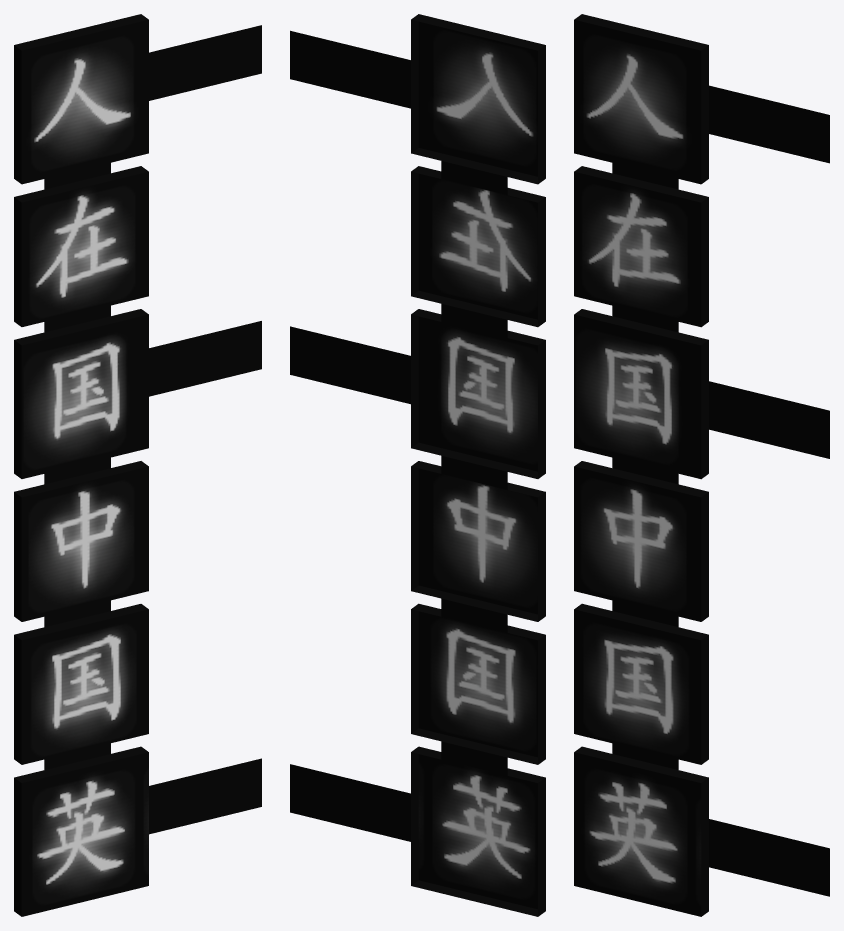
File: bb_chi_left_00.fbx
3 renders of one model, left to right at view 1: azimuth 30°, elevation 25°; view 2: azimuth 150°, elevation 25°; view 3: azimuth 330°, elevation 25°, orthographic.
Parts seen in each view (by area): view 1: bb_chi_left_00; view 2: bb_chi_left_00; view 3: bb_chi_left_00.
Boxes of the visible parts, x1=… form: bb_chi_left_00: x1=14, y1=14, x2=261, y2=916; bb_chi_left_00: x1=290, y1=14, x2=545, y2=916; bb_chi_left_00: x1=574, y1=14, x2=829, y2=916.
Size of the model in its own units: 156 by 521 by 8.45.
